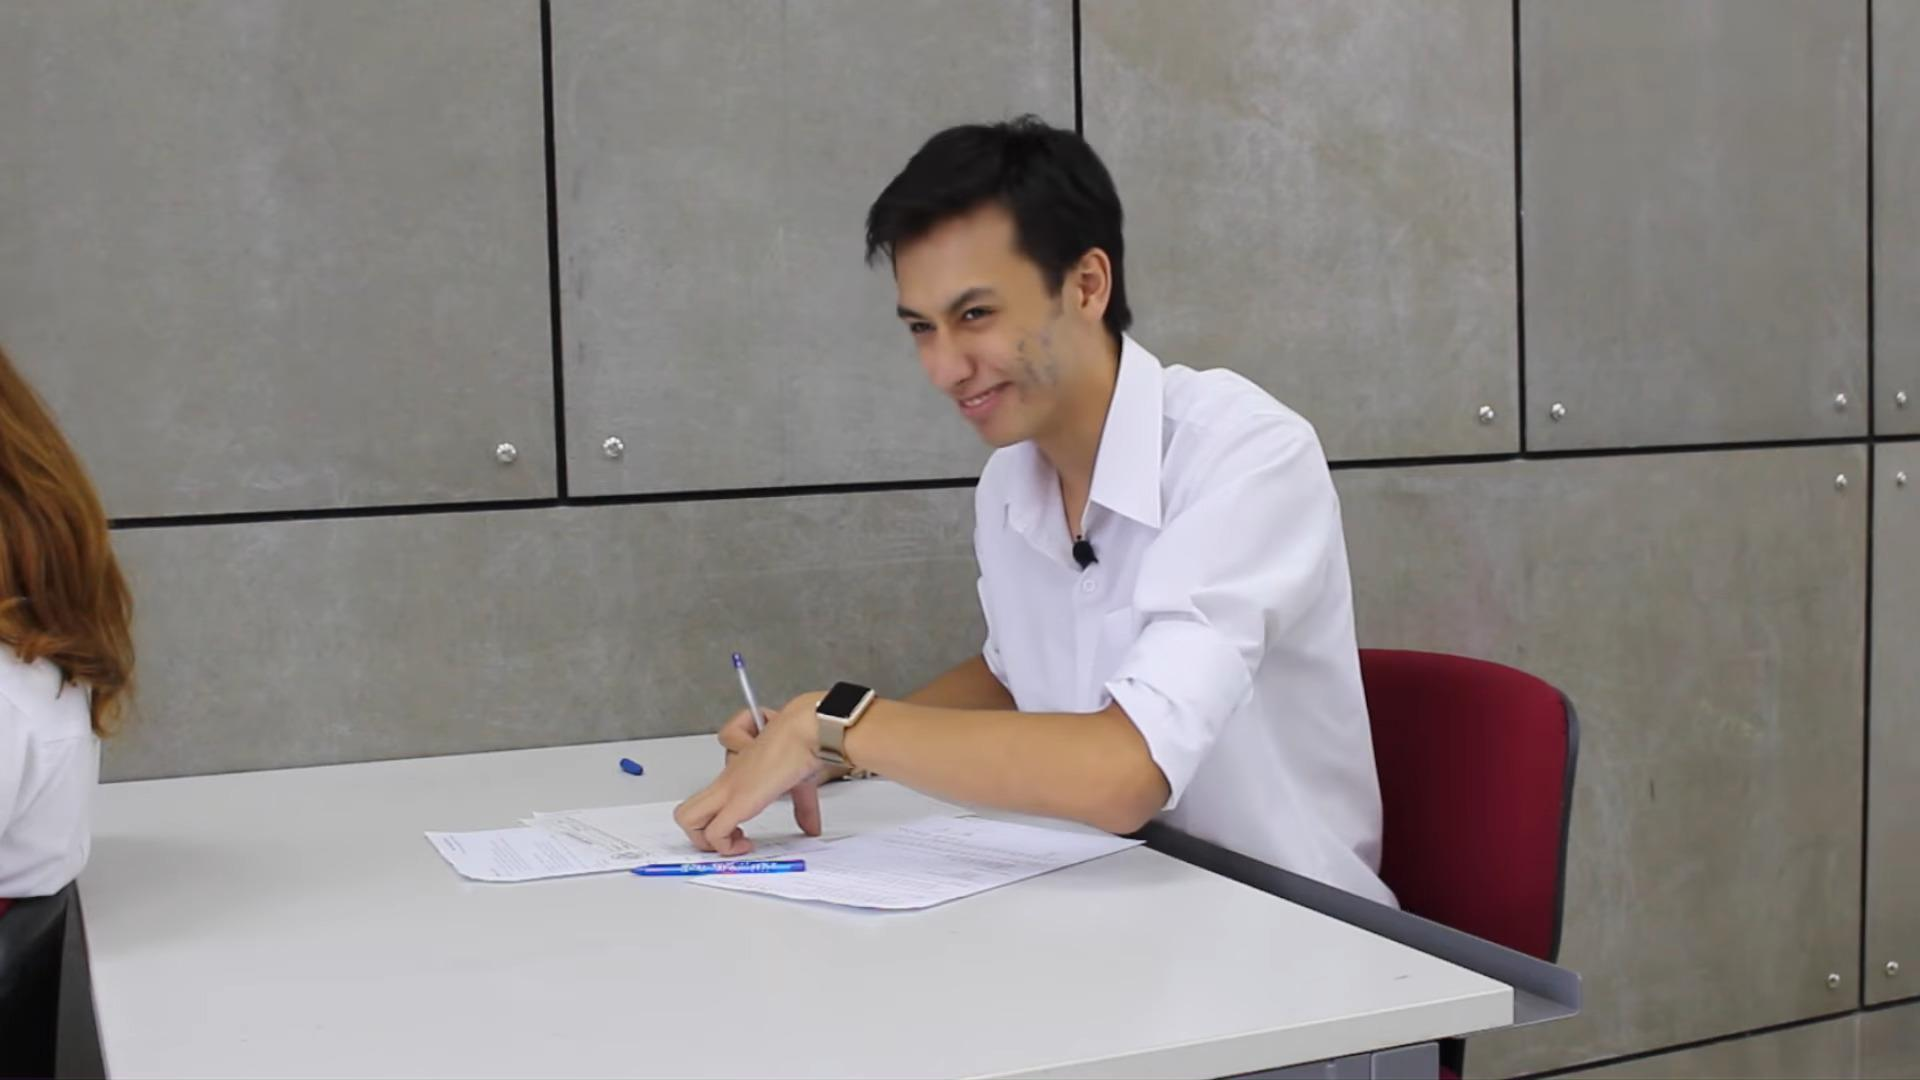cheating: (402, 103, 1398, 927)
